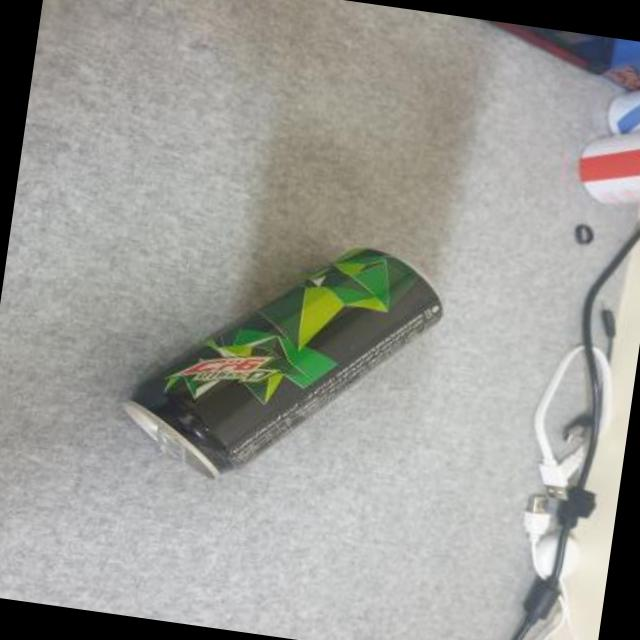metal: (128, 247, 443, 474)
